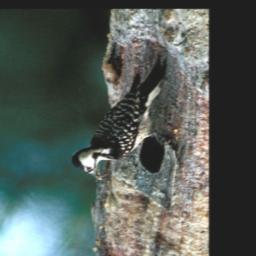Woodpecker: (70, 52, 166, 183)
